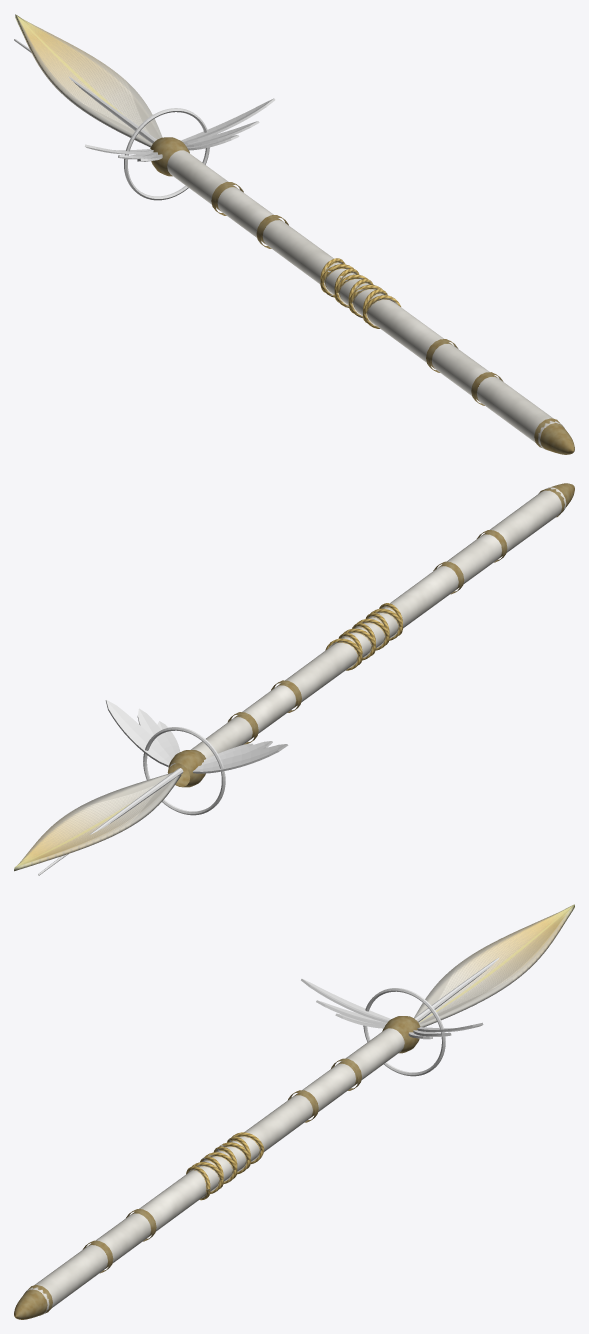
The model's file is Spear6.fbx.
The picture shows the model from 3 angles, top to bottom: view 1: azimuth 30°, elevation 25°; view 2: azimuth 150°, elevation 25°; view 3: azimuth 330°, elevation 25°; orthographic projection. The views are drawn at different scales.
Visible parts, largest first — view 1: Spear6_Body, Spear6_Glow_ffaa1e; view 2: Spear6_Body, Spear6_Glow_ffaa1e; view 3: Spear6_Body, Spear6_Glow_ffaa1e.
Part boxes in pixels (x1,y1,x2,y2): Spear6_Body: (15, 14, 574, 454); Spear6_Glow_ffaa1e: (14, 39, 275, 200); Spear6_Body: (14, 483, 574, 871); Spear6_Glow_ffaa1e: (38, 700, 288, 875); Spear6_Body: (14, 904, 574, 1319); Spear6_Glow_ffaa1e: (301, 957, 498, 1076).
Size of the model in its own units: 1.95 by 0.8712 by 10.12.
Materials: 2 (1 with a texture image).
